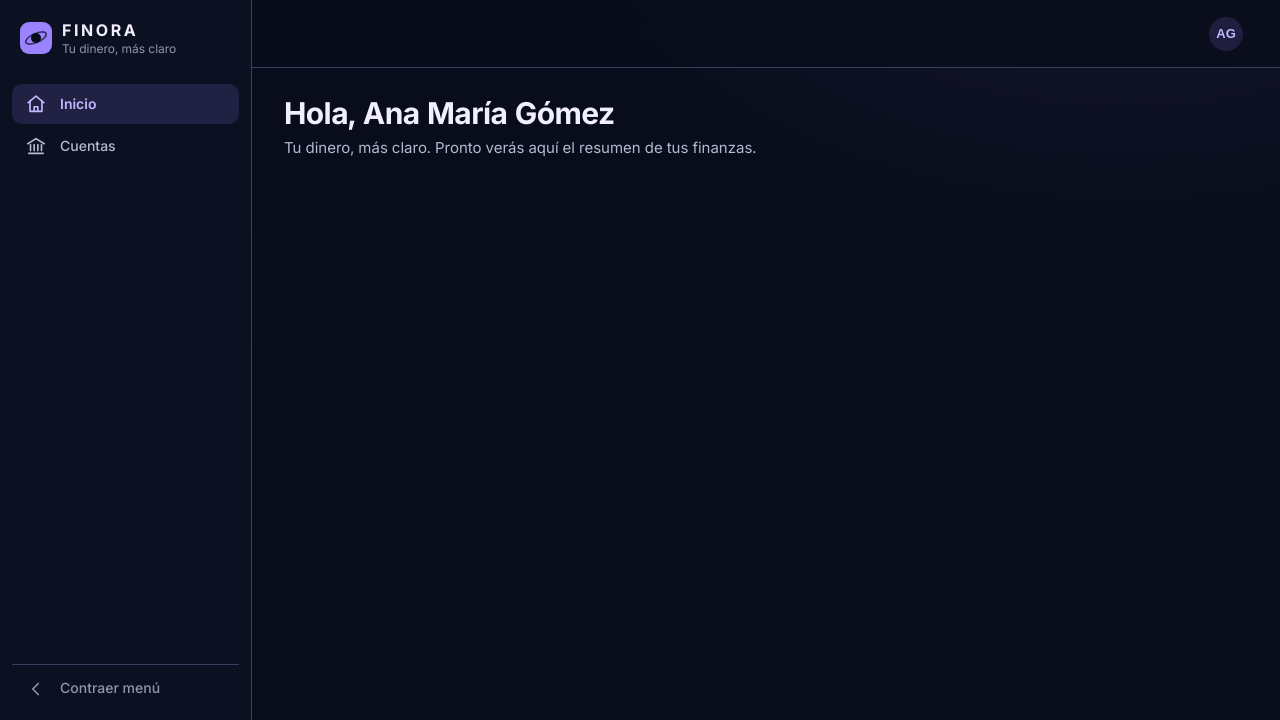
menú de perfil › se cierra al hacer clic fuera o al salir con Tab
The width and height of the screenshot is (1280, 720).
expect the navigation bar named "Navegación principal" is shown: met, box [0, 0, 252, 719]
Click the button with aria-label "Menú de perfil".
click(1226, 34)  # box [1204, 12, 1248, 56]
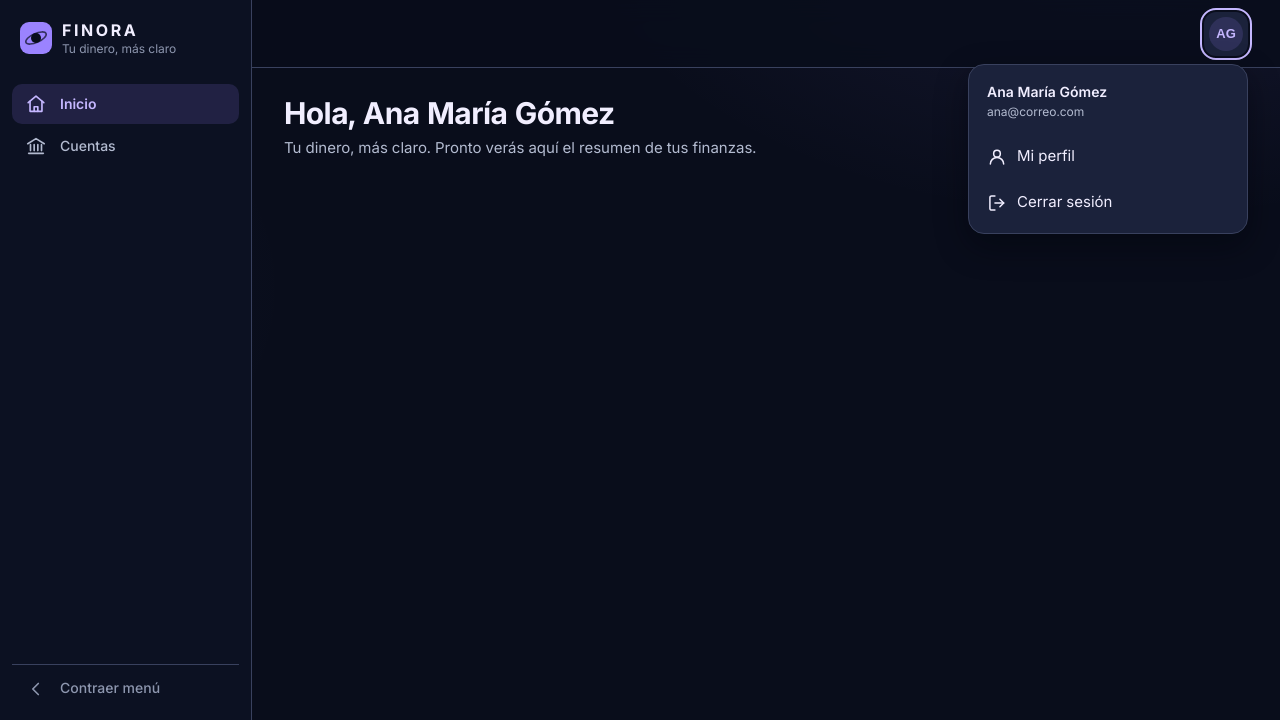
Click the element that starts with "Hola, Ana María Gómez".
click(520, 126)  # box [284, 95, 756, 156]
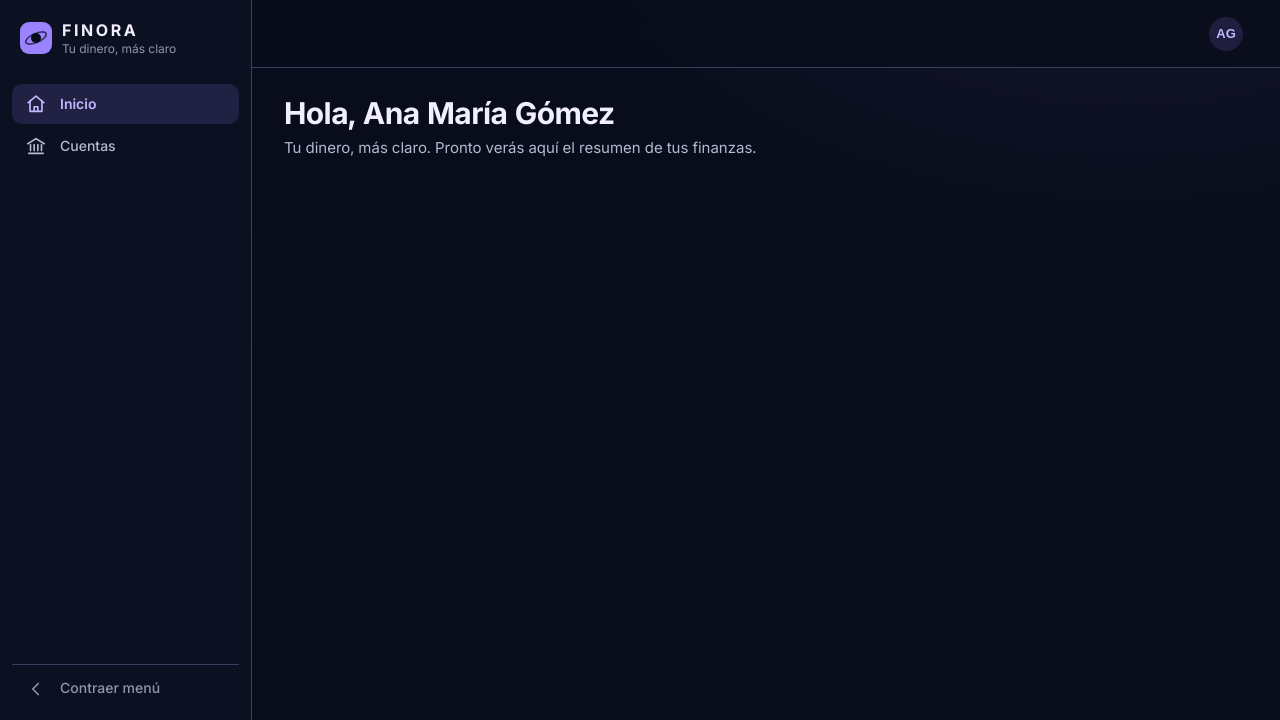
expect the button with aria-label "Menú de perfil" is collapsed: met
Click the button with aria-label "Menú de perfil".
click(1226, 34)  # box [1204, 12, 1248, 56]
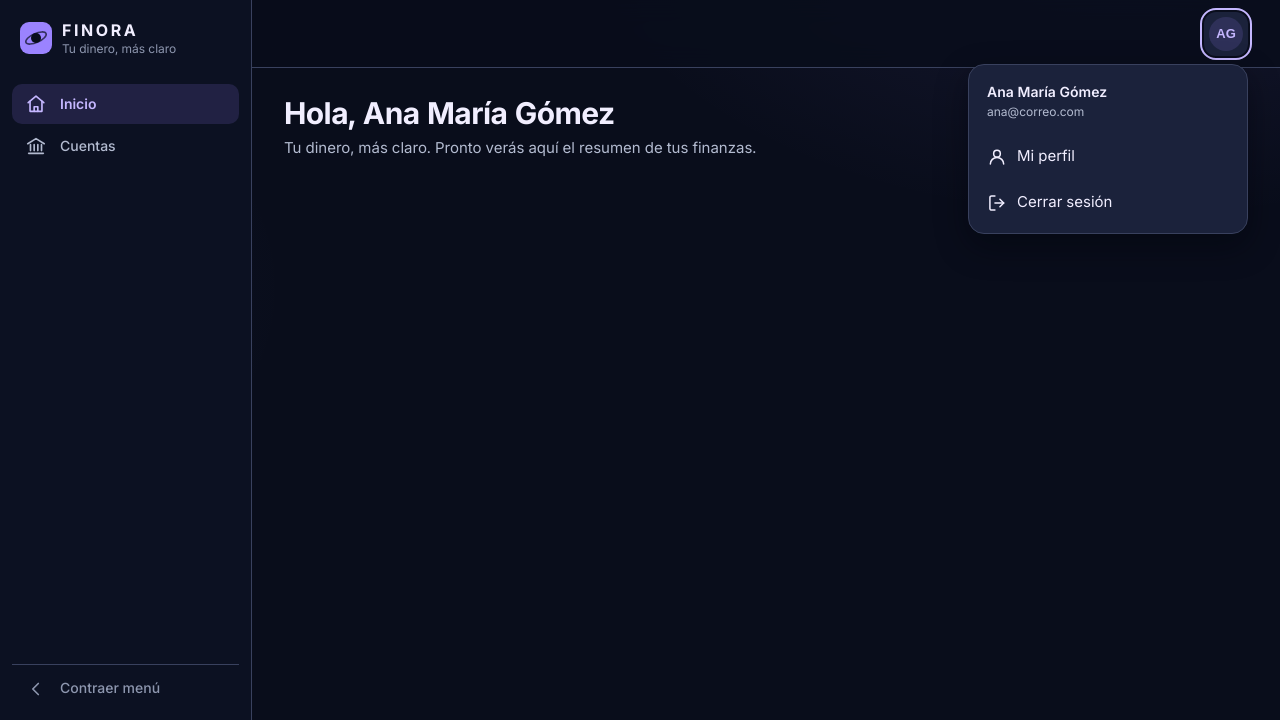
Press Tab
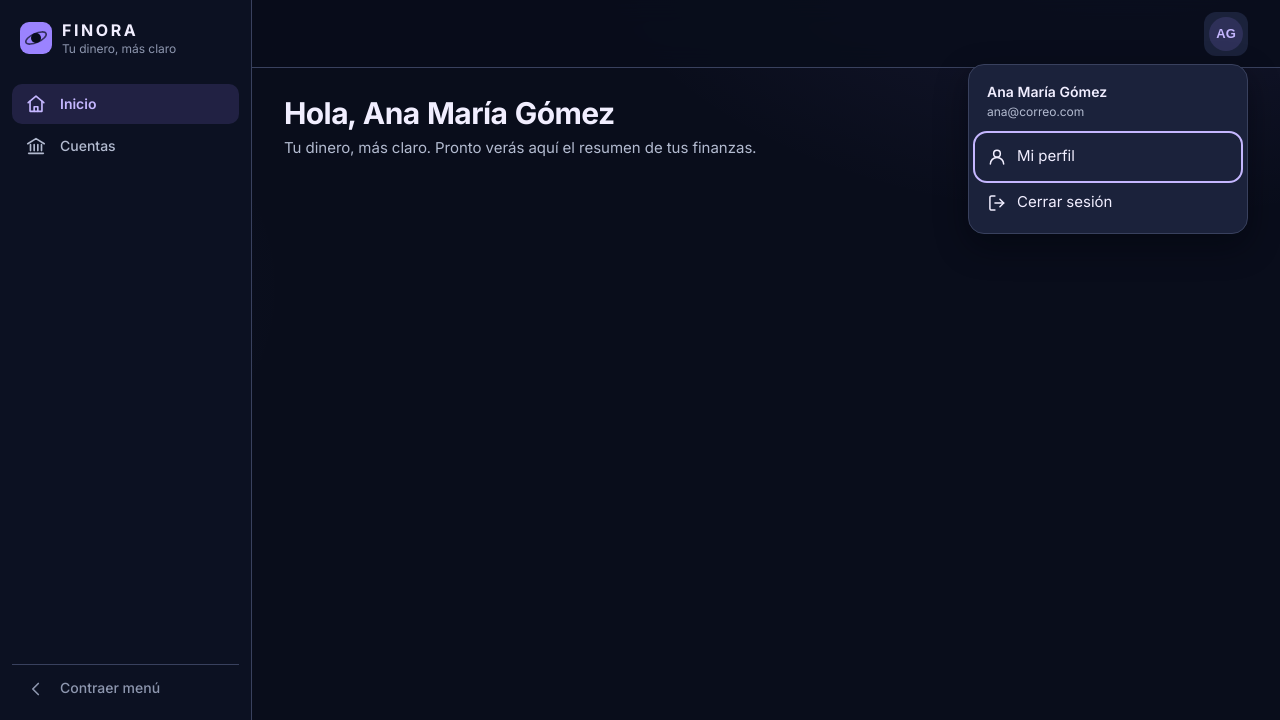
Press Tab
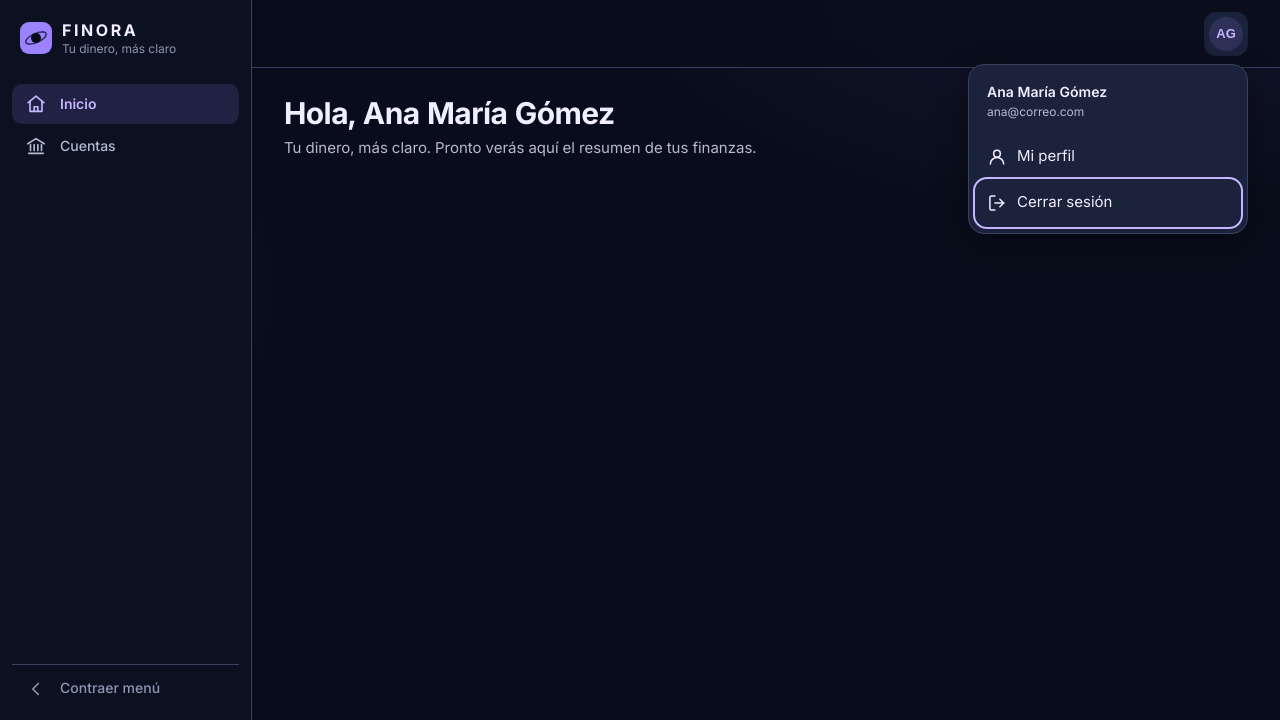
Press Tab
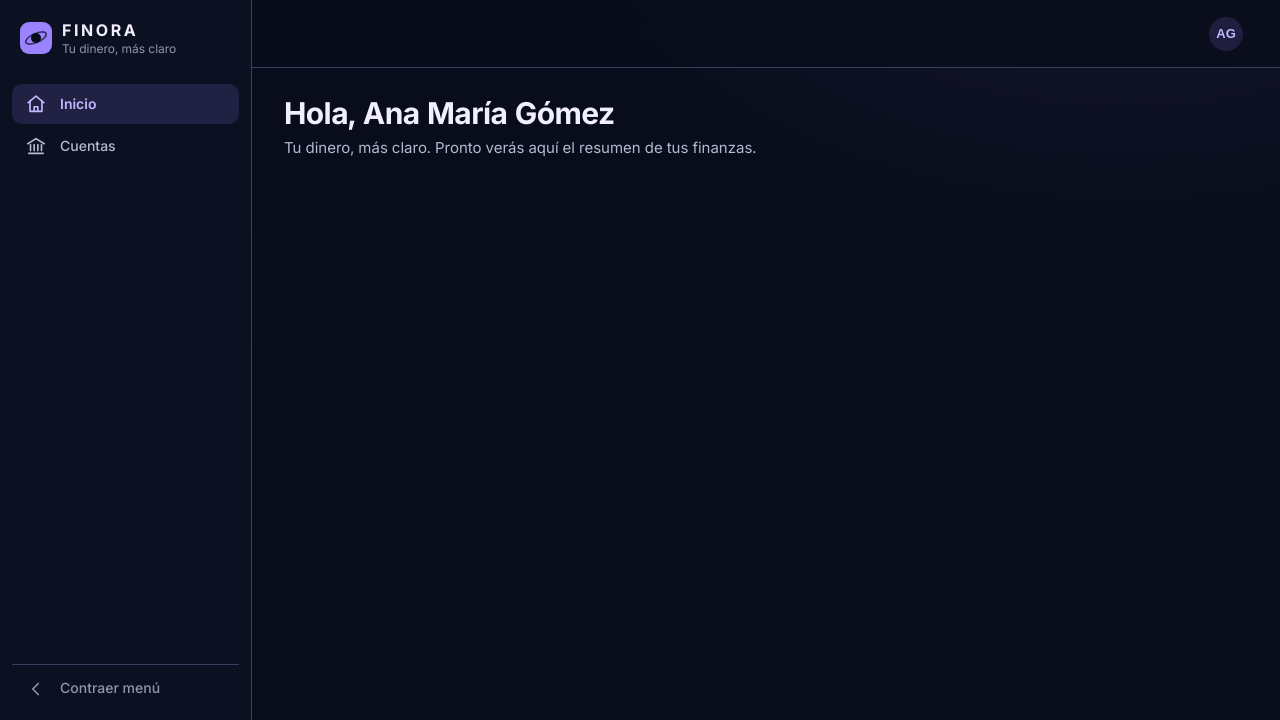
expect the button with aria-label "Menú de perfil" is collapsed: met, box [1204, 12, 1248, 56]
